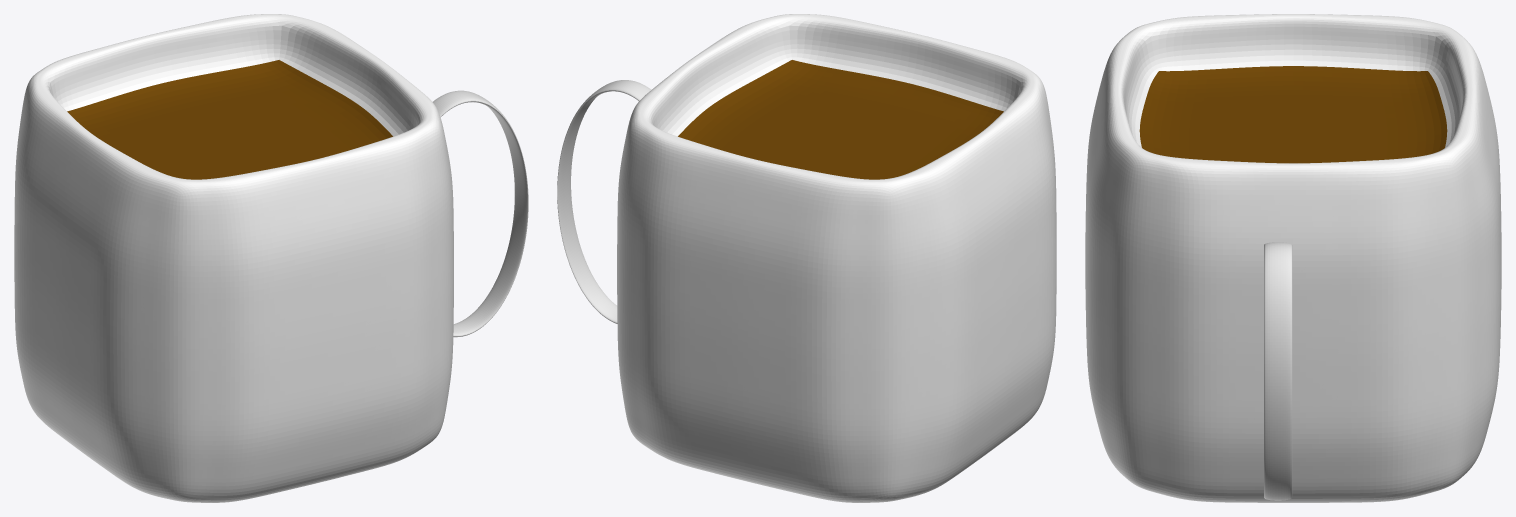
File: mug.fbx
3 renders of one model, left to right at view 1: azimuth 30°, elevation 25°; view 2: azimuth 150°, elevation 25°; view 3: azimuth 270°, elevation 25°, orthographic. The views are drawn at different scales.
Visible parts, largest first — view 1: Cube, Circle; view 2: Cube, Circle; view 3: Cube, Circle.
Part boxes in pixels (x1=…): Cube: x1=14, y1=14, x2=453, y2=502; Circle: x1=433, y1=90, x2=528, y2=337; Cube: x1=617, y1=14, x2=1056, y2=502; Circle: x1=557, y1=80, x2=651, y2=323; Cube: x1=1085, y1=14, x2=1501, y2=502; Circle: x1=1264, y1=242, x2=1292, y2=500.
Bounding box in the file's own units: 263 × 190 × 199.
